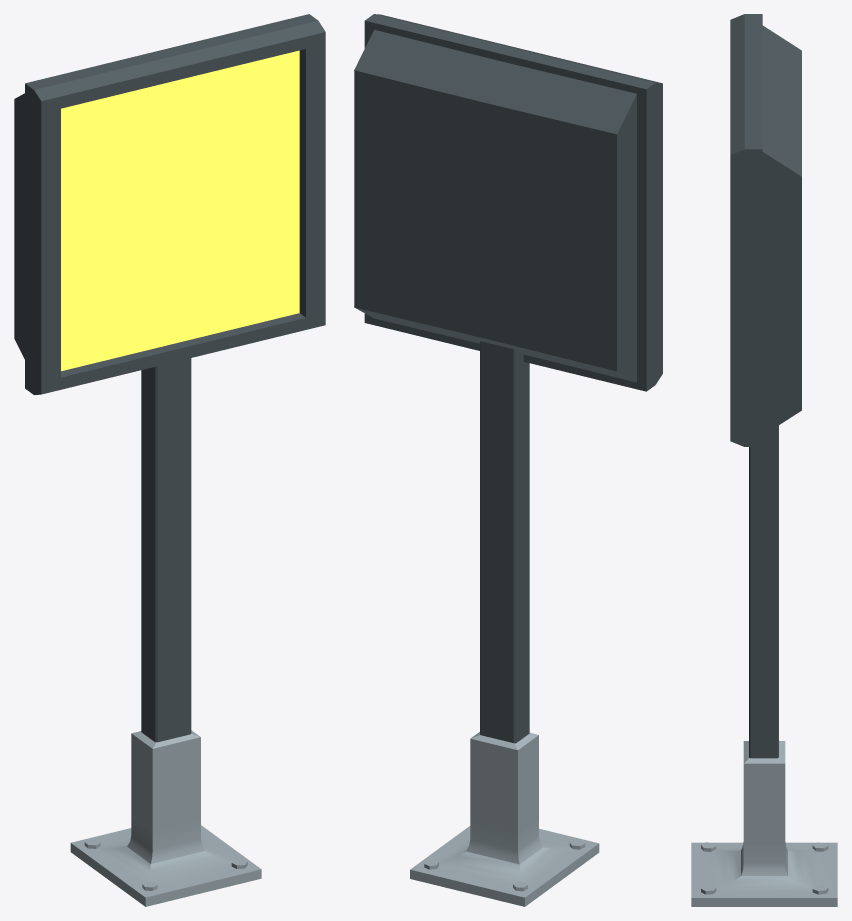
The model's file is puzzleStand.fbx.
3 views of the same model, side by side, from view 1: azimuth 30°, elevation 25°; view 2: azimuth 150°, elevation 25°; view 3: azimuth 270°, elevation 25° (orthographic). The views are drawn at different scales.
Visible parts, largest first — view 1: screen, case, neck, base; view 2: case, neck, base; view 3: case, base, neck.
Boxes of the visible parts, box(x1,y1,x2,y2) form: screen: box(61, 50, 299, 371); case: box(14, 14, 325, 395); neck: box(141, 358, 191, 742); base: box(70, 730, 261, 906); case: box(354, 14, 662, 391); neck: box(480, 341, 529, 743); base: box(410, 732, 599, 906); case: box(730, 14, 801, 446); base: box(691, 741, 837, 906); neck: box(749, 425, 778, 758).
Bounding box in the file's own units: 160 × 439 × 72.88.
